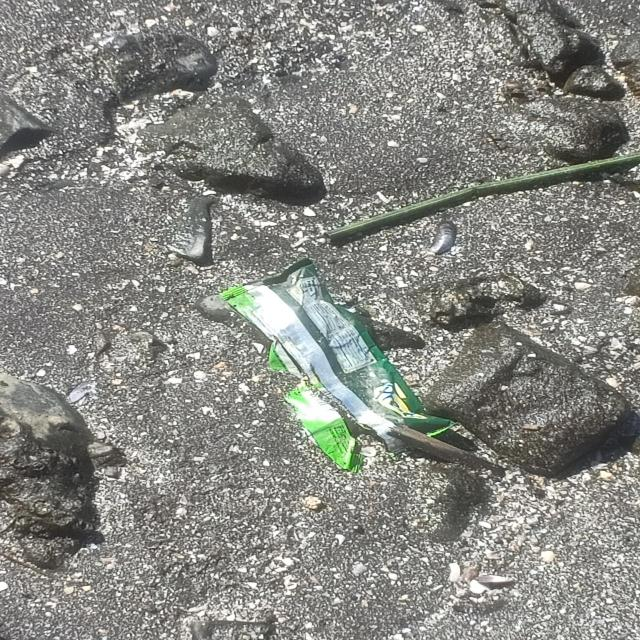plastic_waste: (225, 266, 448, 481), (329, 151, 640, 239)
